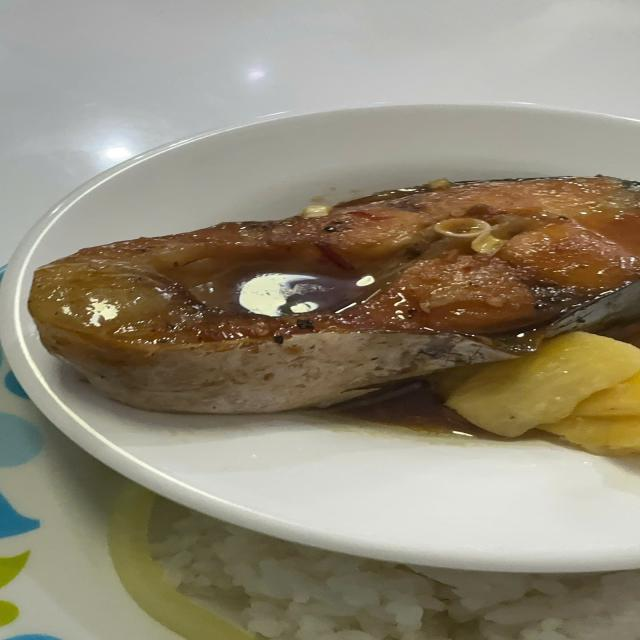ca kho: (28, 177, 640, 412)
